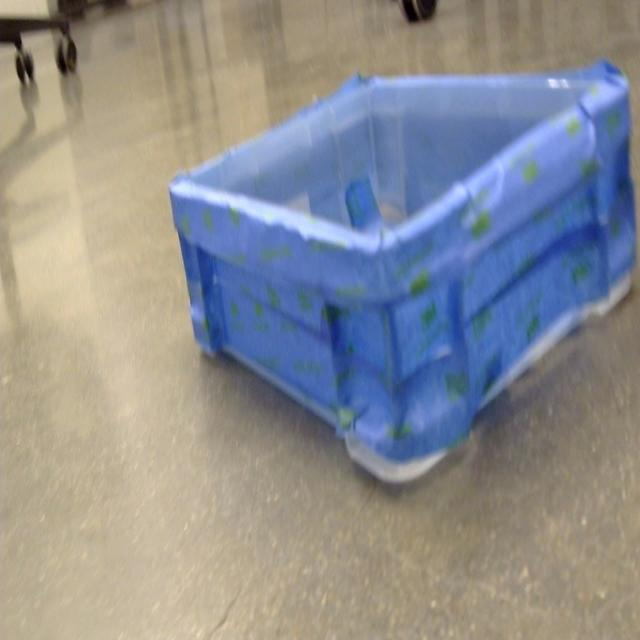bucket: (167, 60, 637, 491)
